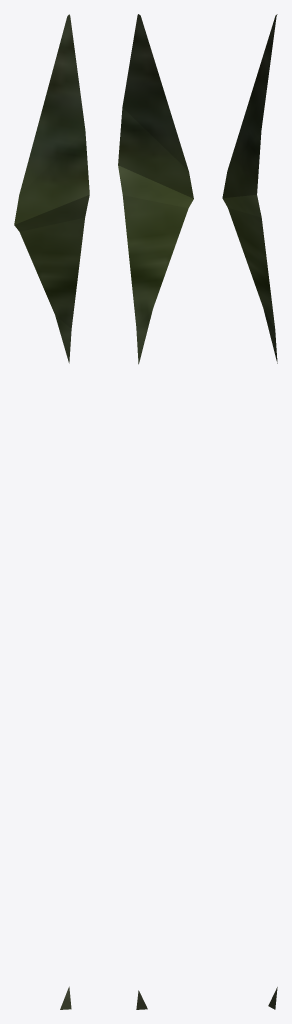
The picture shows the model from 3 angles, left to right: view 1: azimuth 30°, elevation 25°; view 2: azimuth 210°, elevation 25°; view 3: azimuth 330°, elevation 25°; orthographic projection.
Size of the model in its own units: 0.126 by 2.17 by 0.0811.
Materials: 1 (1 with a texture image).
